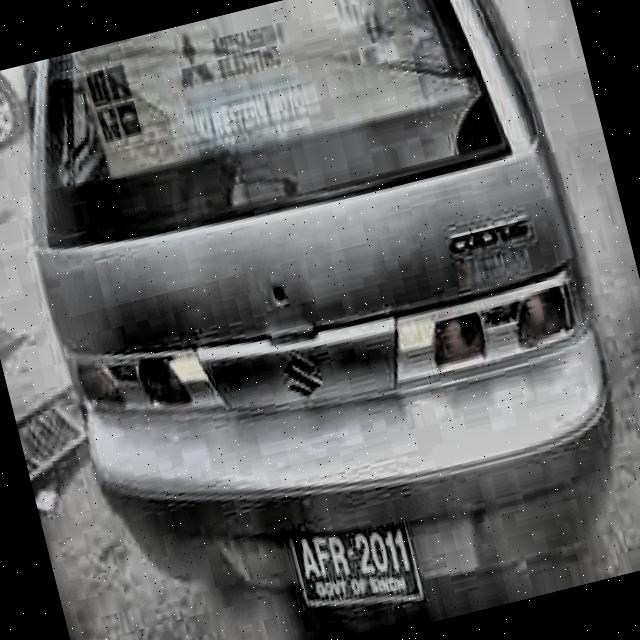license_plate: (283, 505, 426, 628)
